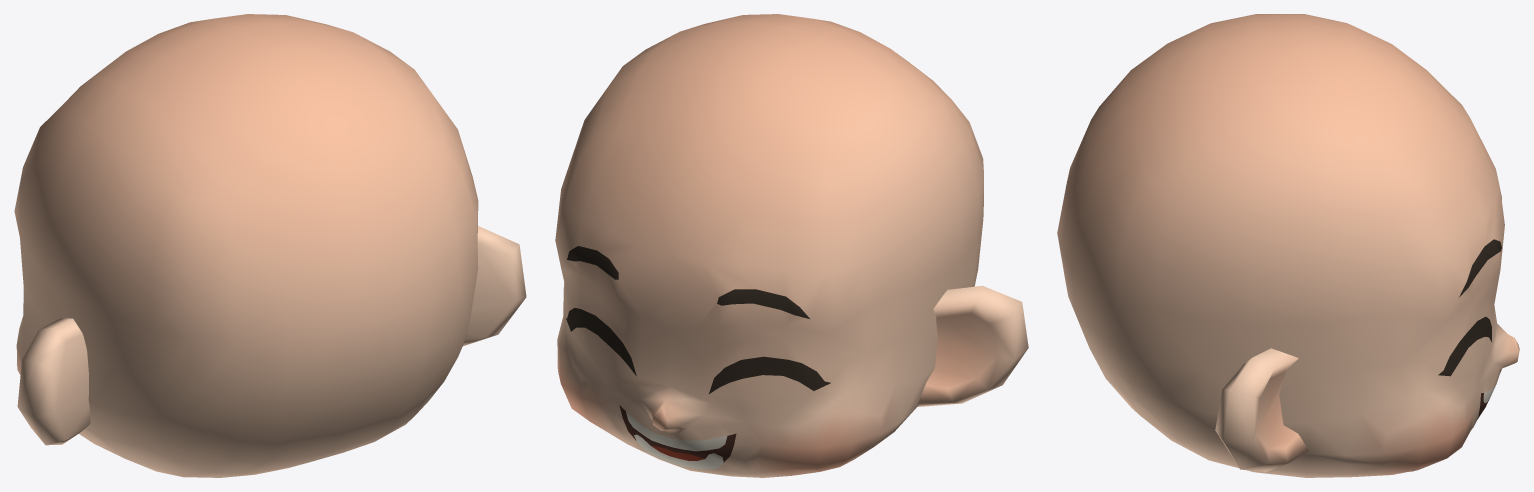
File: FaceMale_5.fbx
The picture shows the model from 3 angles, left to right: view 1: azimuth 30°, elevation 25°; view 2: azimuth 150°, elevation 25°; view 3: azimuth 270°, elevation 25°; orthographic projection. The views are drawn at different scales.
Parts seen in each view (by area): view 1: FaceMale_5; view 2: FaceMale_5; view 3: FaceMale_5.
Part boxes in pixels (left/top/right/bottom): FaceMale_5: left=14, top=14, right=526, bottom=477; FaceMale_5: left=555, top=14, right=1028, bottom=477; FaceMale_5: left=1057, top=14, right=1519, bottom=477.
Size of the model in its own units: 81.66 by 66.4 by 68.58.
